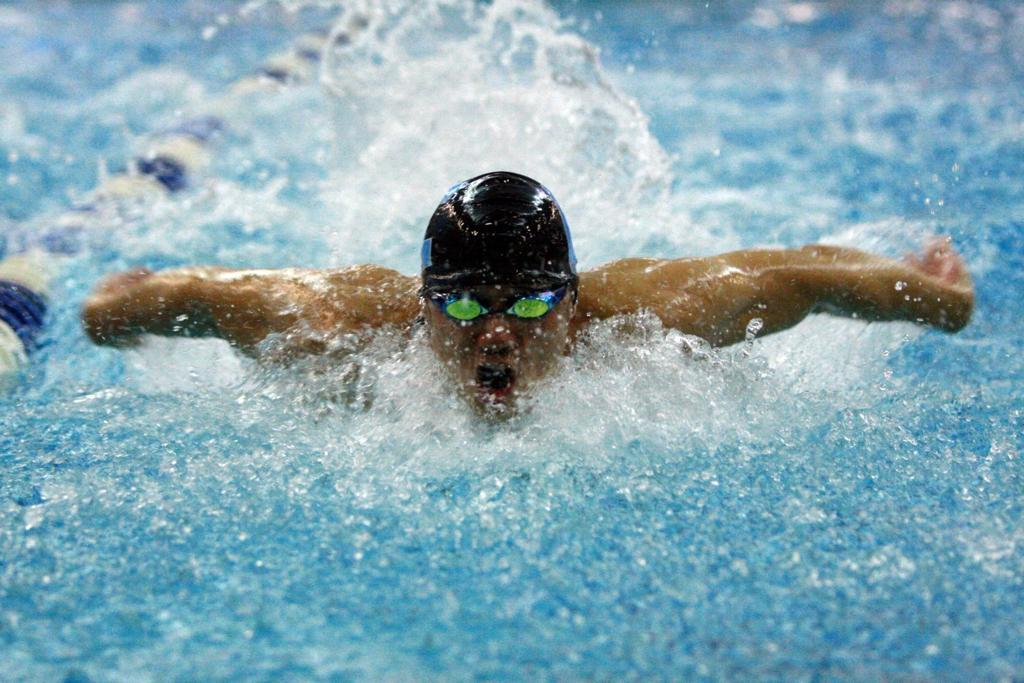face: (430, 250, 568, 430)
